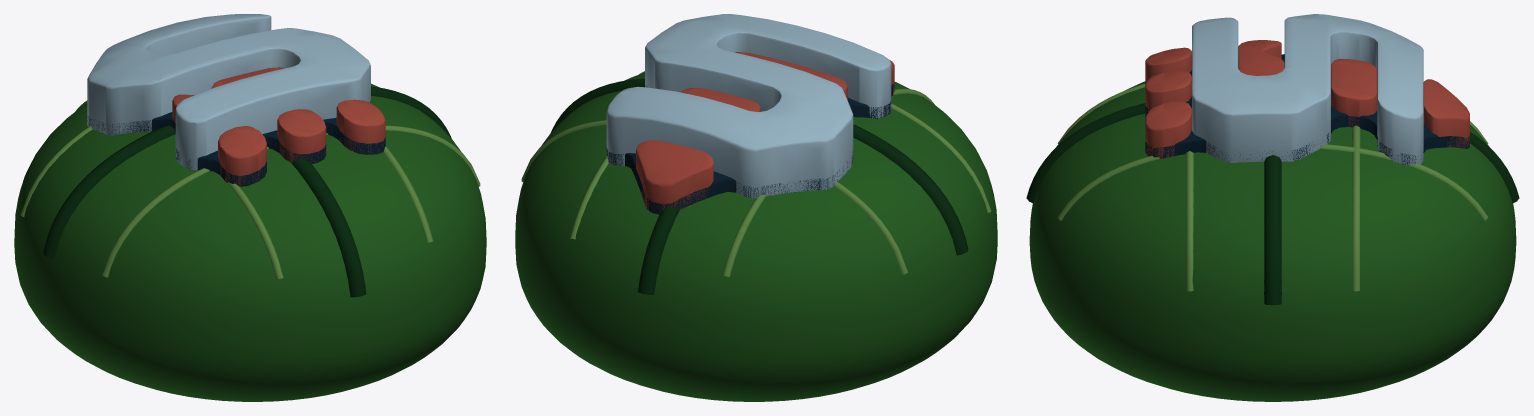
The model's file is pu_mega_missile.glb.
3 renders of one model, left to right at view 1: azimuth 30°, elevation 25°; view 2: azimuth 150°, elevation 25°; view 3: azimuth 270°, elevation 25°, orthographic. The views are drawn at different scales.
Parts seen in each view (by area): view 1: orb, s, s_red, orb_groove_2, orb_seam_2, s_base; view 2: orb, s, s_red, orb_groove_2, orb_seam_2, s_base; view 3: orb, s, s_red, orb_groove_2, orb_seam_2, s_base.
Part boxes in pixels (left/top/right/bottom): orb: left=14, top=83, right=486, bottom=401; s: left=87, top=14, right=370, bottom=169; s_red: left=172, top=67, right=385, bottom=186; orb_groove_2: left=43, top=86, right=451, bottom=297; orb_seam_2: left=20, top=100, right=480, bottom=279; s_base: left=87, top=101, right=385, bottom=186; orb: left=515, top=72, right=997, bottom=401; s: left=606, top=14, right=891, bottom=198; s_red: left=636, top=52, right=894, bottom=212; orb_groove_2: left=551, top=78, right=968, bottom=294; orb_seam_2: left=521, top=71, right=991, bottom=277; s_base: left=606, top=84, right=894, bottom=214; orb: left=1029, top=81, right=1516, bottom=401; s: left=1192, top=14, right=1423, bottom=165; s_red: left=1145, top=40, right=1469, bottom=158; orb_groove_2: left=1026, top=103, right=1519, bottom=305; orb_seam_2: left=1057, top=83, right=1488, bottom=291; s_base: left=1145, top=54, right=1469, bottom=165.
Bounding box in the file's own units: 20.88 × 14.18 × 21.27.
